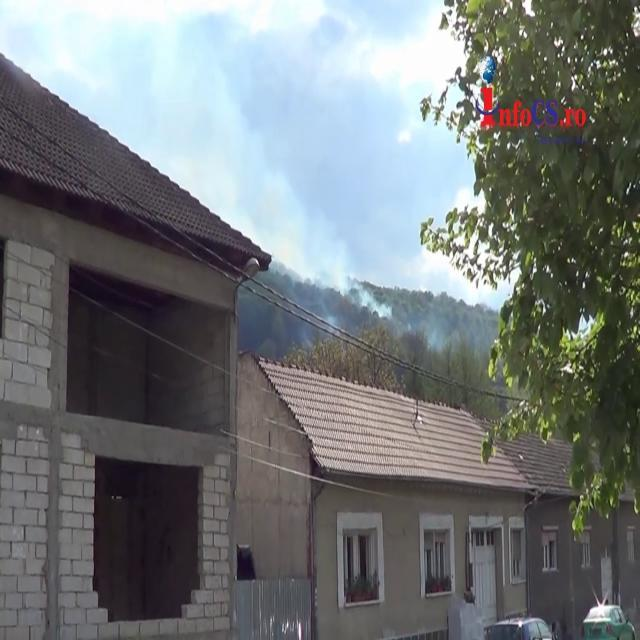Smoke: (322, 242, 482, 380), (326, 250, 396, 324)
